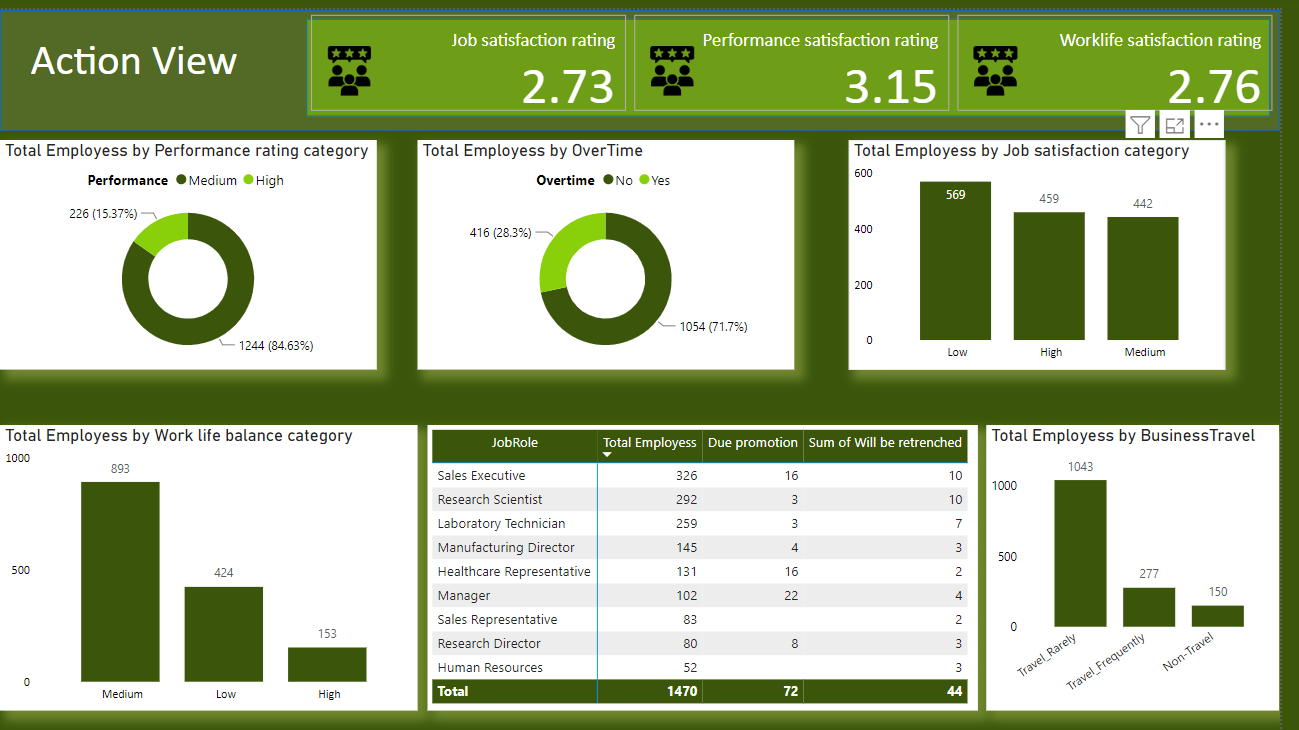

What the dashboard file says about the page in this screenshot:
{"tool":"powerbi","page":{"name":"Action","canvas":[1280,720],"ordinal":1},"visuals":[{"type":"shape","box":[0,0,1280,120.6],"z":0},{"type":"shape","box":[306.4,8.4,963.9,97.7],"z":1000},{"type":"cardVisual","fields":{"Data":["Key Measures.Job satisfaction rating","Key Measures.Performance satisfaction rating","Key Measures.Worklife satisfaction rating"]},"box":[306.4,0,973.6,106.2],"z":2000},{"type":"donutChart","fields":{"Y":["Key Measures.Total Employess"],"Category":["Fact_HR Data.Performance rating category"]},"box":[0,130.3,376.4,229.2],"z":3000},{"type":"donutChart","fields":{"Y":["Key Measures.Total Employess"],"Category":["Fact_HR Data.OverTime"]},"box":[424.1,130.3,376.4,229.2],"z":4000},{"type":"columnChart","fields":{"Y":["Key Measures.Total Employess"],"Category":["Fact_HR Data.Job satisfaction category"]},"box":[848.1,130.3,376.4,229.2],"z":5000},{"type":"columnChart","fields":{"Y":["Key Measures.Total Employess"],"Category":["Fact_HR Data.Work life balance category"]},"box":[0,392.5,417.5,286.2],"z":6000},{"type":"pivotTable","fields":{"Rows":["Fact_HR Data.JobRole"],"Values":["Key Measures.Total Employess","Key Measures.Due promotion","Sum(DimRetrenched.Will be retrenched)"]},"box":[423.8,392.5,550,286.2],"z":7000},{"type":"columnChart","fields":{"Category":["Fact_HR Data.BusinessTravel"],"Y":["Key Measures.Total Employess"]},"box":[976.2,392.5,293.8,286.2],"z":8000},{"type":"textbox","box":[15.7,19.3,235.3,76],"z":9000}]}

Visuals, with their boxes in screenshot pixels (x1, y1, x2, y2), scaled from the page's 1280x720 canvas onto the 1299x730 screenshot:
shape: 0, 0, 1298, 122
shape: 311, 9, 1289, 108
cardVisual - Key Measures.Job satisfaction rating x Key Measures.Performance satisfaction rating: 311, 0, 1298, 108
donutChart - Key Measures.Total Employess x Fact_HR Data.Performance rating category: 0, 132, 382, 364
donutChart - Key Measures.Total Employess x Fact_HR Data.OverTime: 430, 132, 812, 364
columnChart - Key Measures.Total Employess x Fact_HR Data.Job satisfaction category: 861, 132, 1243, 364
columnChart - Key Measures.Total Employess x Fact_HR Data.Work life balance category: 0, 398, 424, 688
pivotTable - Fact_HR Data.JobRole x Key Measures.Total Employess: 430, 398, 988, 688
columnChart - Fact_HR Data.BusinessTravel x Key Measures.Total Employess: 991, 398, 1289, 688
textbox: 16, 20, 255, 97
